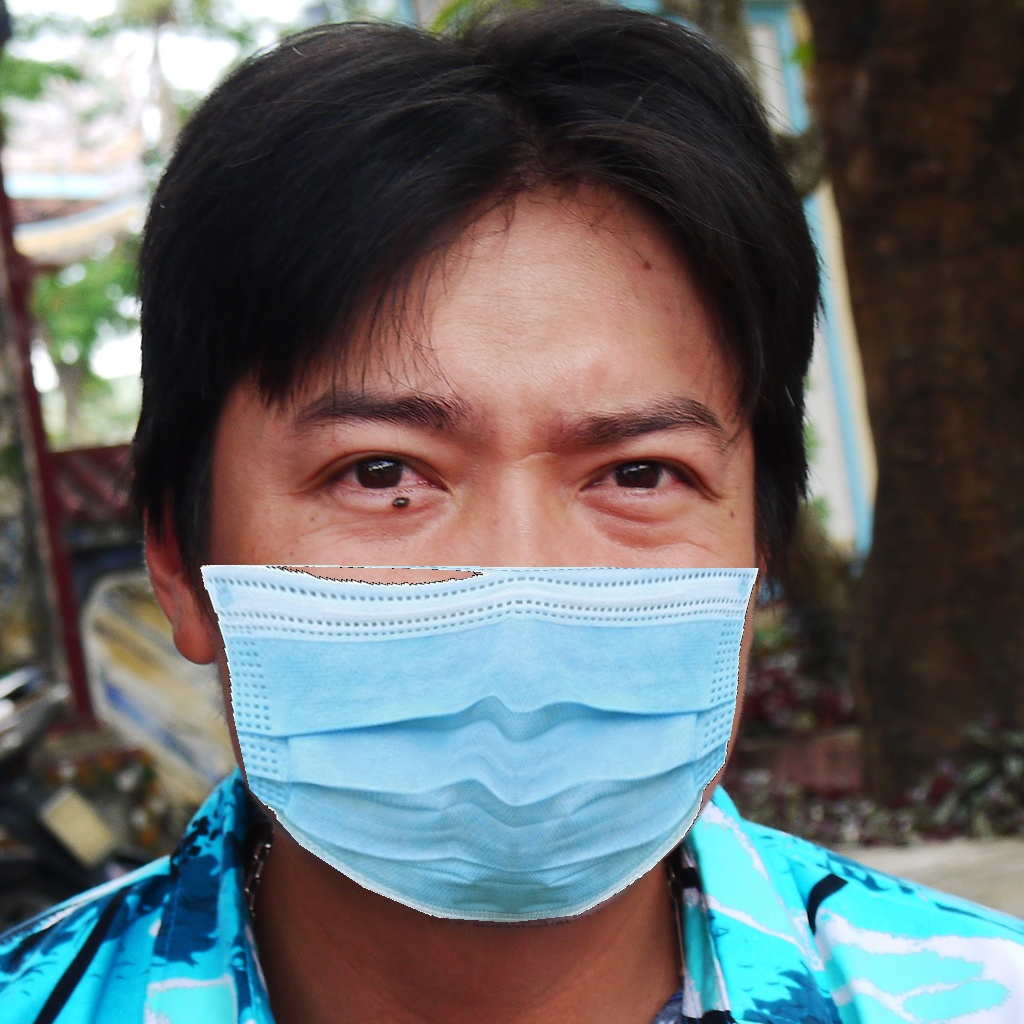Mask: (201, 378, 781, 923)
